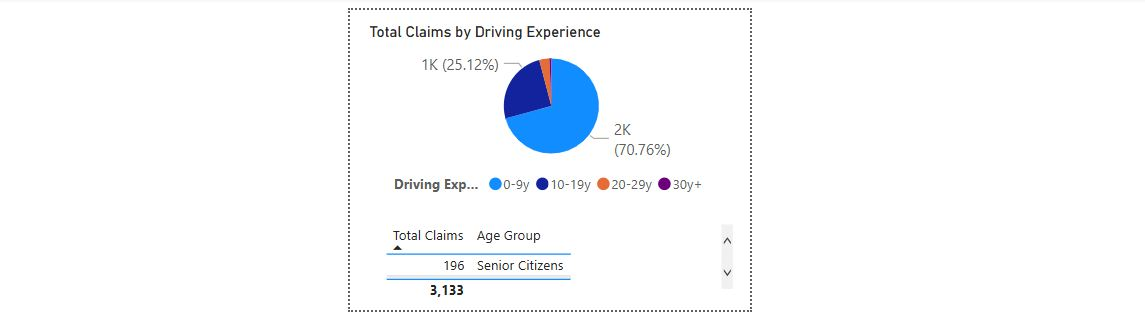

The page's visual inventory and layout, read from the dashboard file:
{"tool":"powerbi","page":{"name":"Tooltip","canvas":[320,240],"ordinal":2},"visuals":[{"type":"pieChart","fields":{"Category":["Car_Insurance_Claim.Driving Experience"],"Y":["_Measures.Total Claims"]},"box":[10,10,301,147],"z":0},{"type":"tableEx","fields":{"Values":["_Measures.Total Claims","Car_Insurance_Claim.Age Group"]},"box":[23,167,288,70],"z":1000}]}

Visuals, with their boxes on the page's 320x240 design canvas (x1, y1, x2, y2). These are canvas units, not pixel positions in the 1145x319 screenshot, which may show the page scaled, cropped or inside an application window:
pieChart - Car_Insurance_Claim.Driving Experience x _Measures.Total Claims: BBox(10, 10, 311, 157)
tableEx - _Measures.Total Claims x Car_Insurance_Claim.Age Group: BBox(23, 167, 311, 237)
